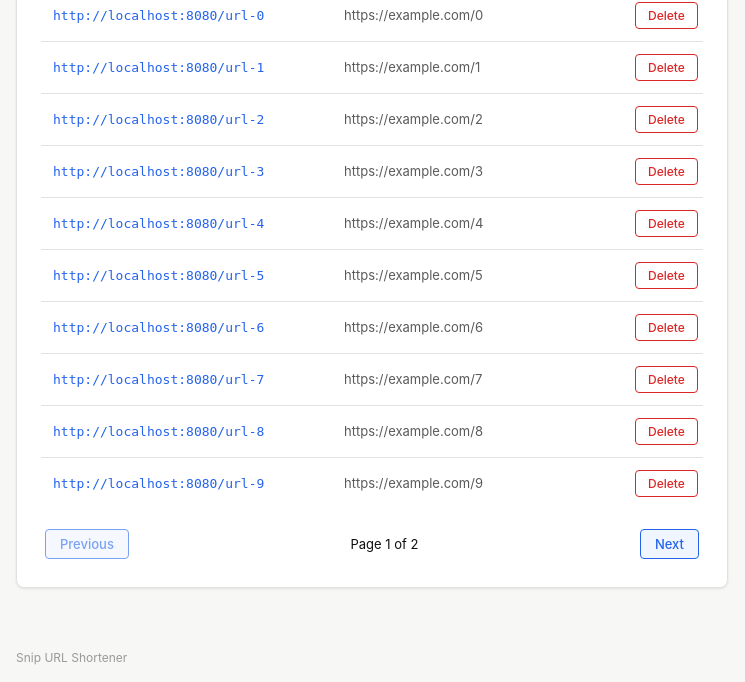
URL pagination › navigates between pages and disables controls at the boundaries
The image size is (745, 682).
(page scrolled)
Check: the button with aria-label "Delete url-0" is shown, box x1=635 y1=2 x2=698 y2=29
Check: the text "Page 1 of 2" is shown, box x1=350 y1=534 x2=418 y2=555
Click the button "Next". click: click(669, 544)
box: x1=640 y1=529 x2=699 y2=559
(page scrolled)
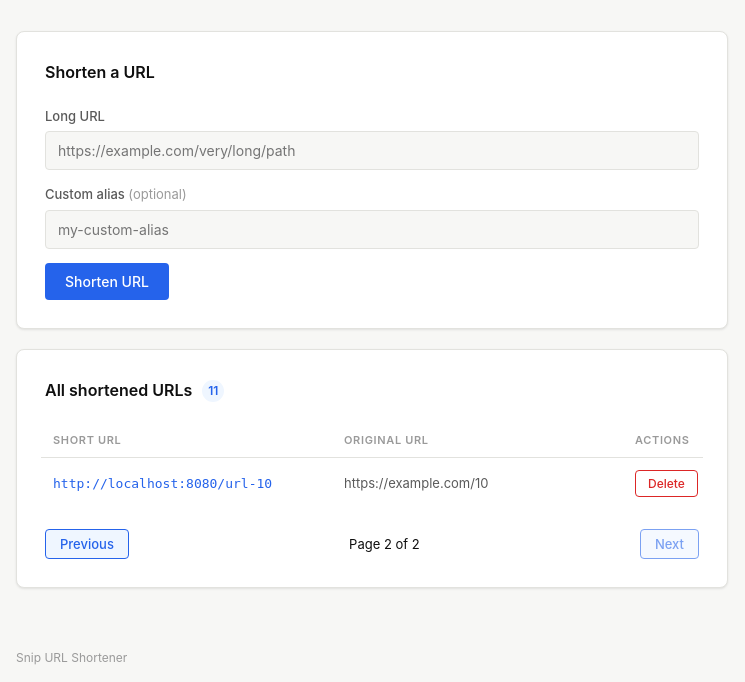
Check: the button with aria-label "Delete url-10" is shown, box x1=635 y1=470 x2=698 y2=497
Check: the text "Page 2 of 2" is shown, box x1=349 y1=534 x2=420 y2=555
Check: the button "Next" is disabled, box x1=640 y1=529 x2=699 y2=559
Click the button "Previous". click: click(87, 544)
box: x1=45 y1=529 x2=129 y2=559
(page scrolled)
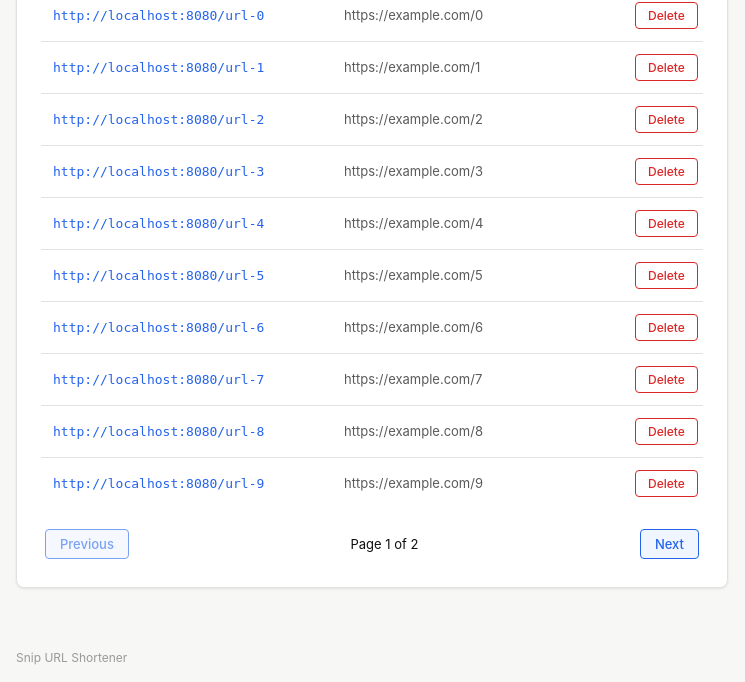
Check: the button with aria-label "Delete url-0" is shown, box x1=635 y1=2 x2=698 y2=29
Check: the text "Page 1 of 2" is shown, box x1=350 y1=534 x2=418 y2=555
